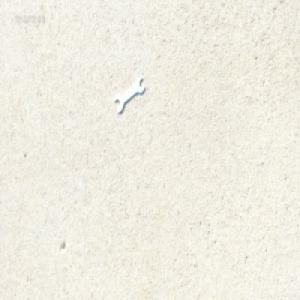Wrench: (114, 77, 144, 113)
